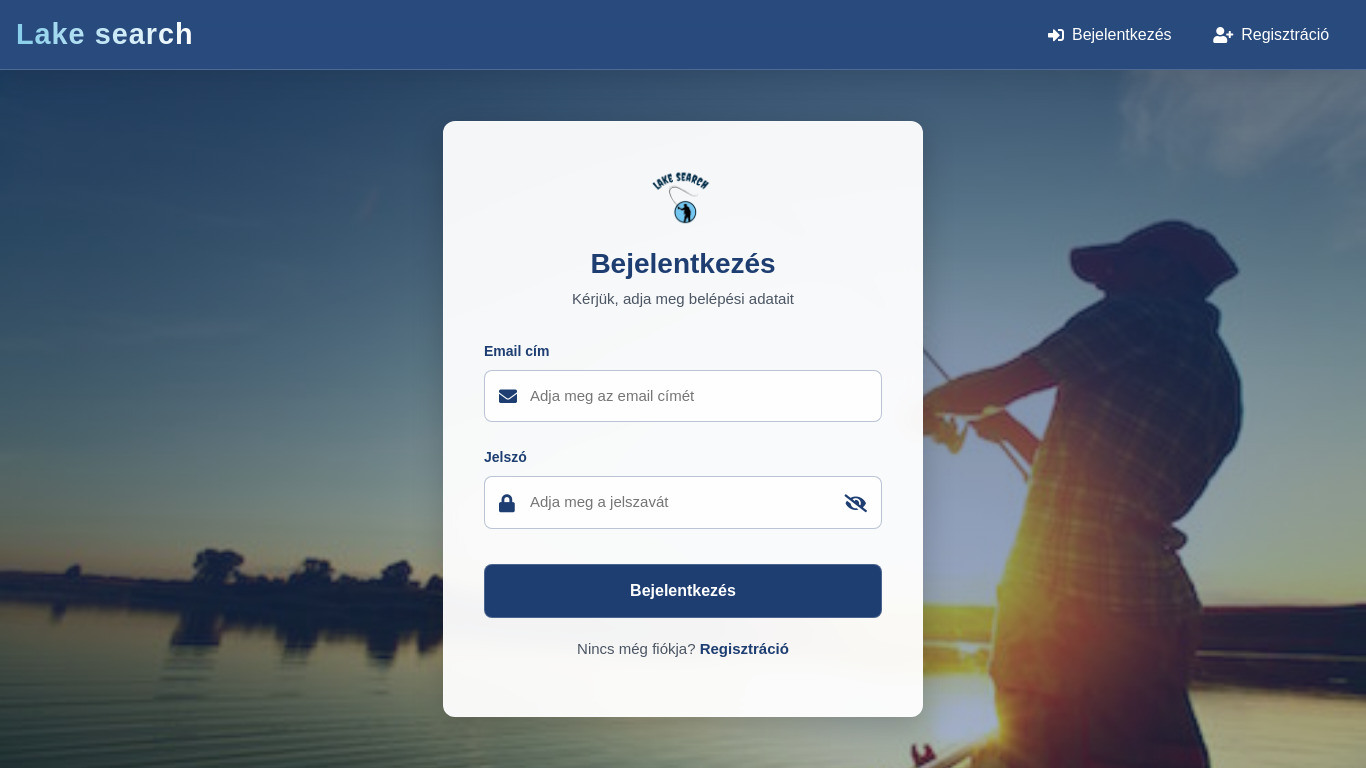
Bejelentkezési űrlap tesztek › Helytelen adatokkal nem enged be
Type "rossz@pelda.com" into the field with id "email". click: (683,397)
box: [484,370,882,423]
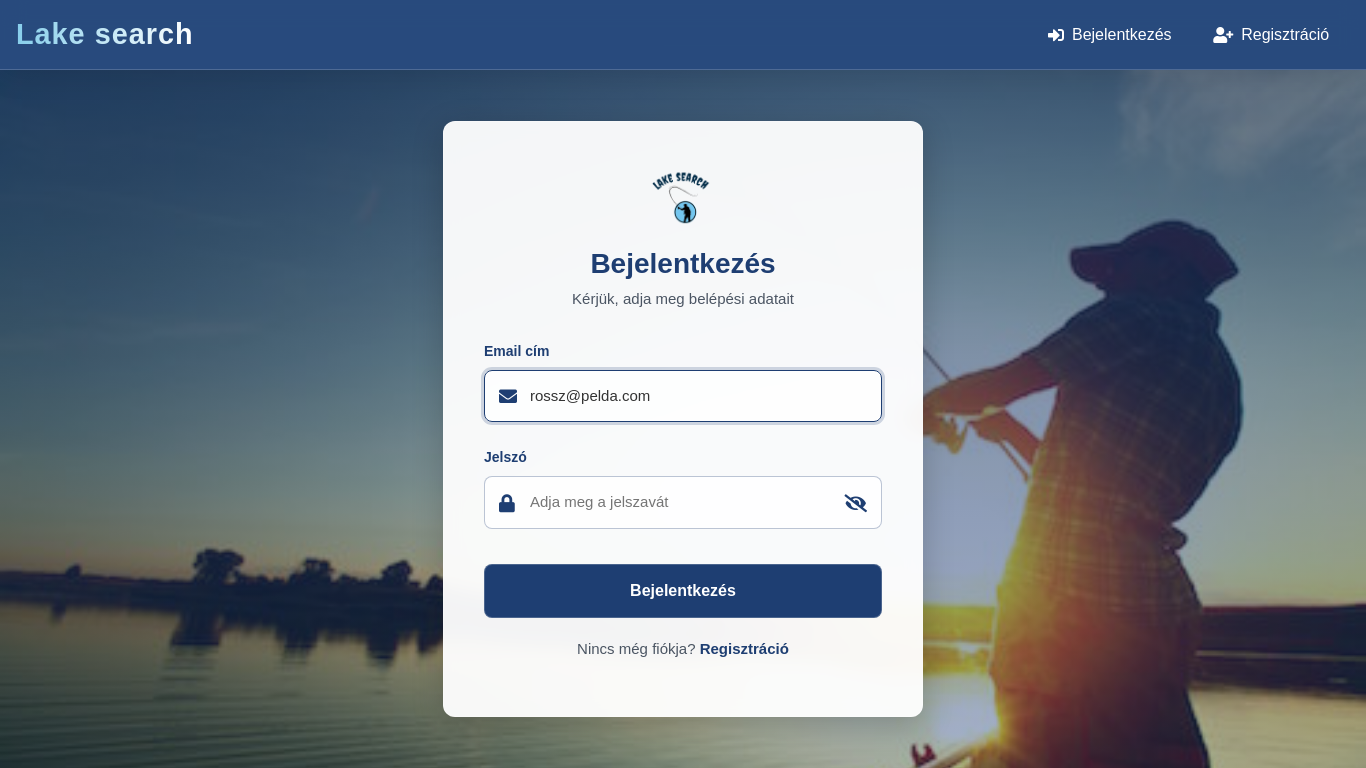
Type "hibasjelszo" into the password field labelled "Jelszó". click: (683,503)
box: [484,476,882,529]
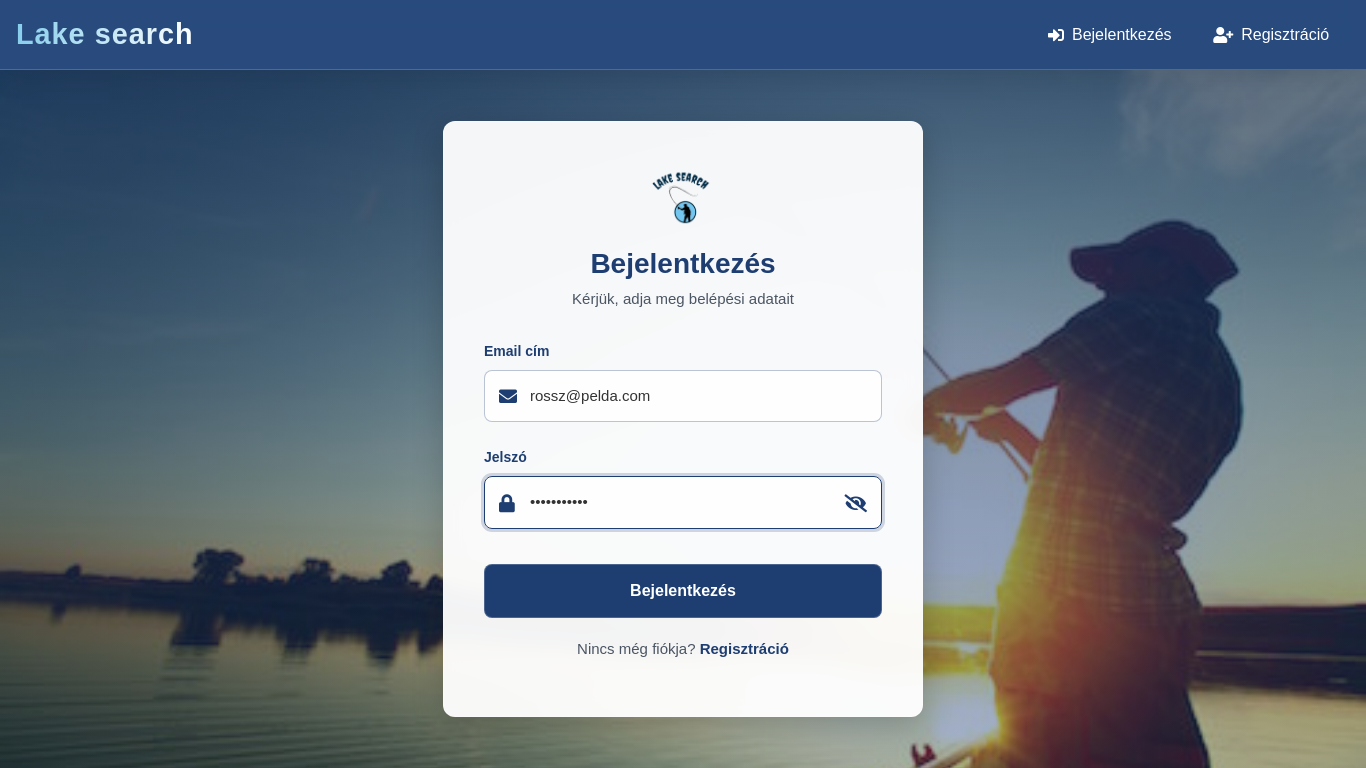
Click the button with class "login-button". click: (683,591)
box: [484,564,882,618]
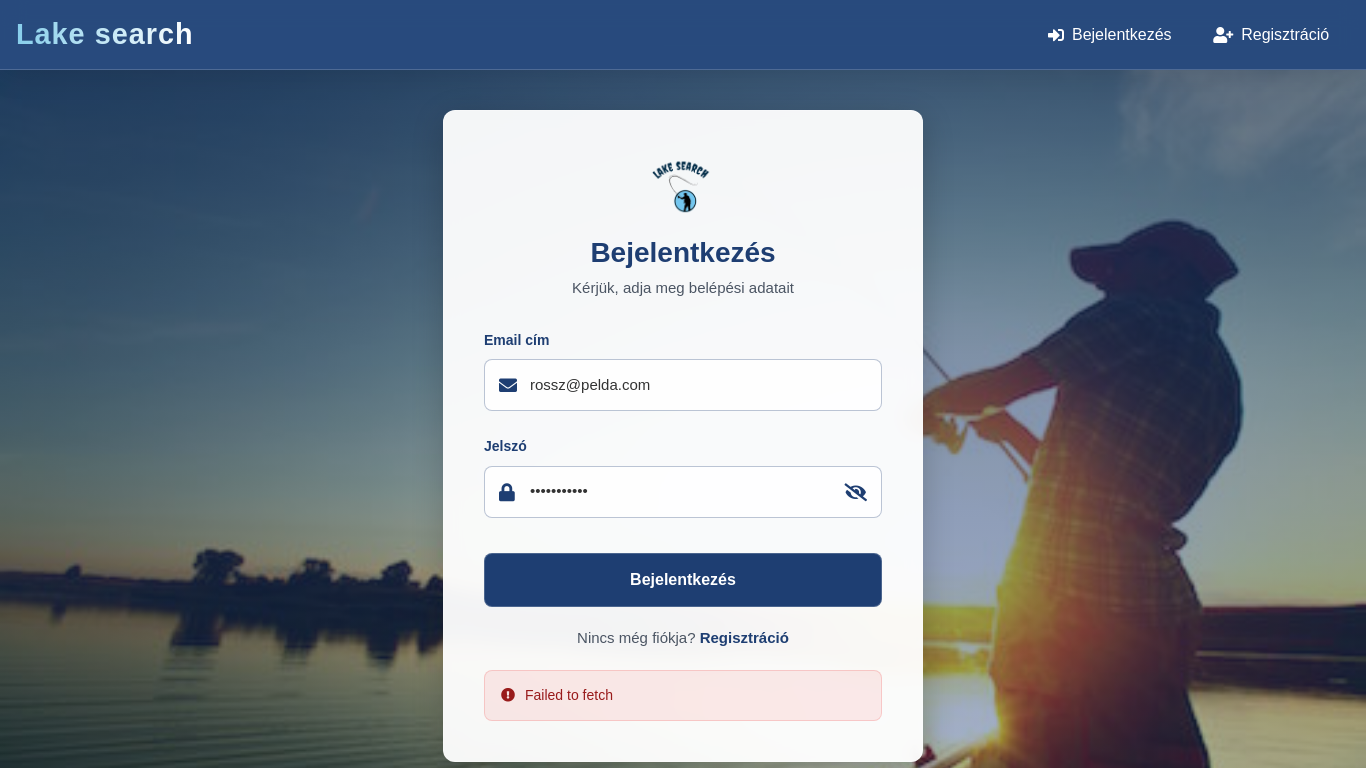
Expected: the element with class "error" is shown, [484,670,882,721]
